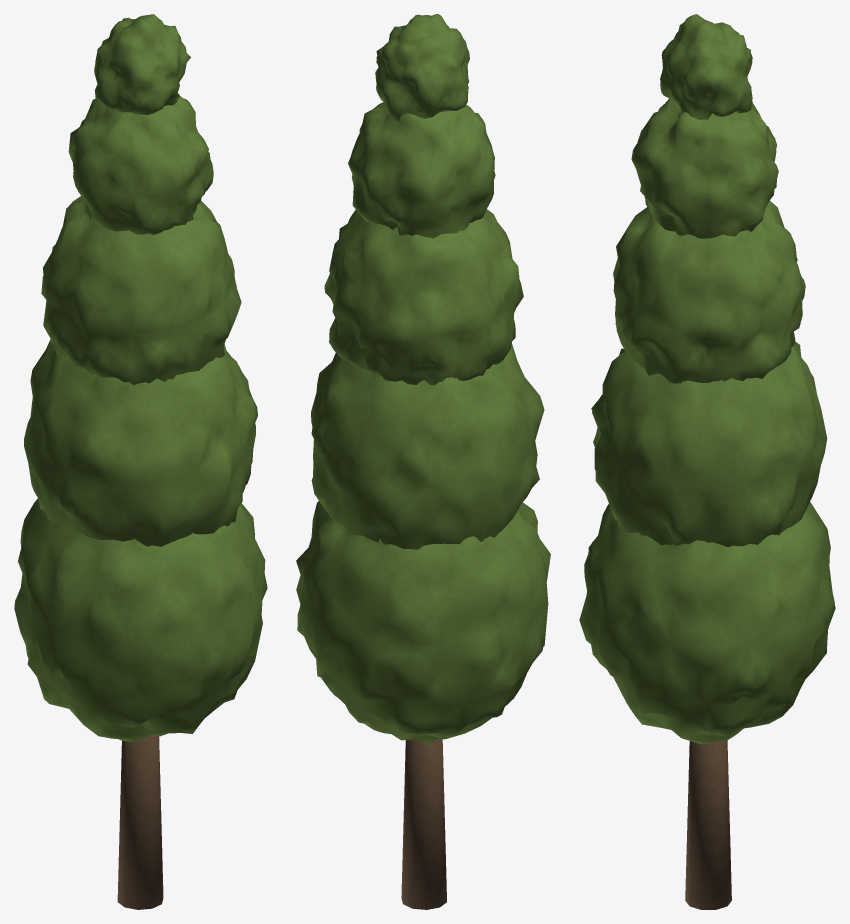
The model's file is poplar.glb.
3 renders of one model, left to right at view 1: azimuth 30°, elevation 25°; view 2: azimuth 150°, elevation 25°; view 3: azimuth 270°, elevation 25°, orthographic.
Visible parts, largest first — view 1: poplar; view 2: poplar; view 3: poplar.
Boxes of the visible parts, box(x1,y1,x2,y2) form: poplar: box(14, 14, 267, 909); poplar: box(296, 14, 550, 909); poplar: box(579, 14, 835, 909).
Bounding box in the file's own units: 2.38 × 9.18 × 2.41.
1 material, 1 textured.
